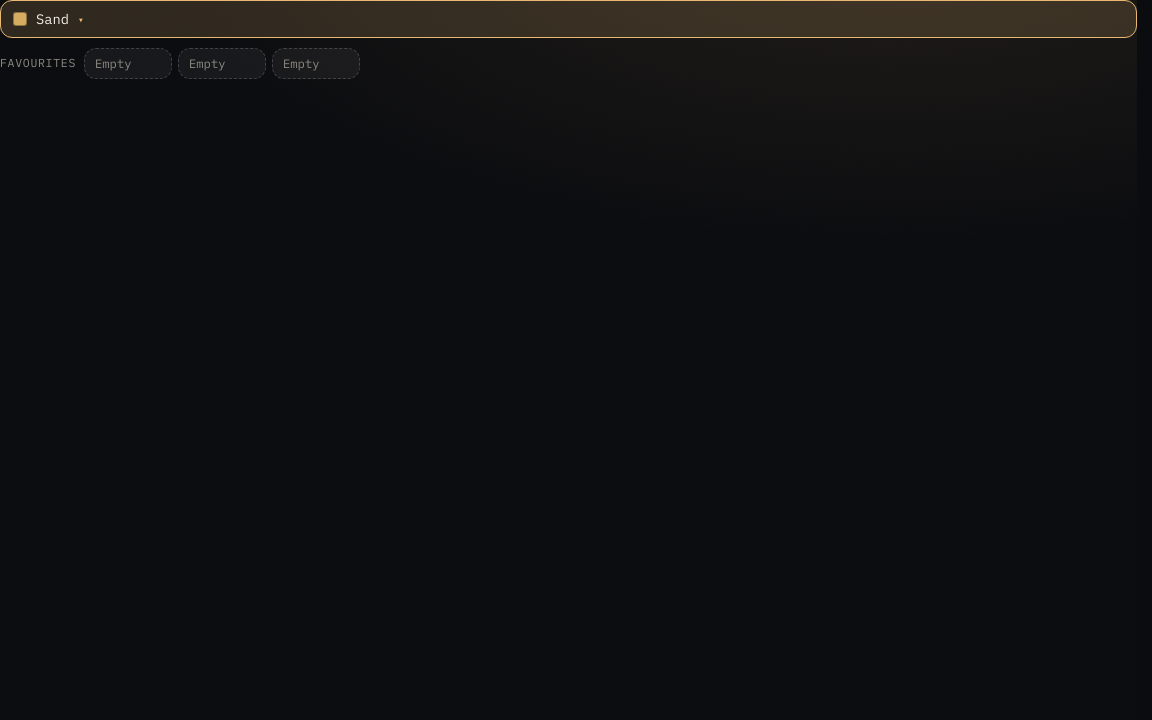
Test case: Palette on a phone › opens the picker as a sheet, with the grid inside it
This screenshot has width=1152, height=720.
Step 1. Click the button with aria-label "Change material" → (53, 19), box [0,0,1137,38]
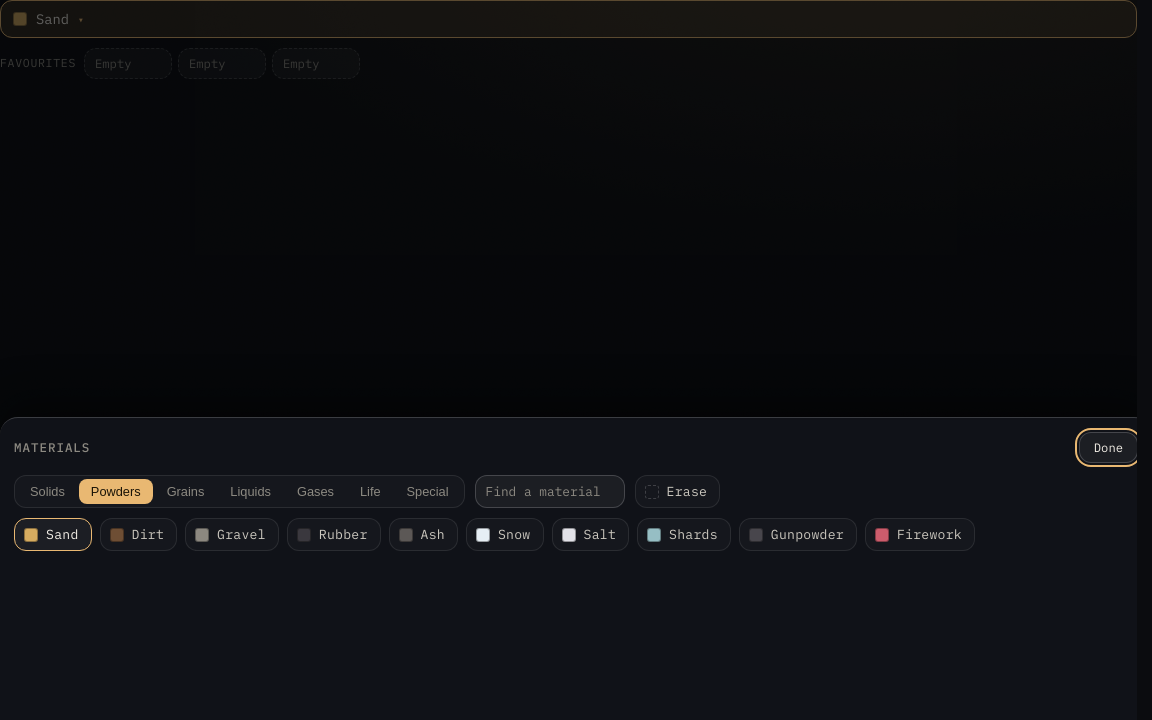
expect the element named "Material group" is shown: met, box [14,475,464,508]
